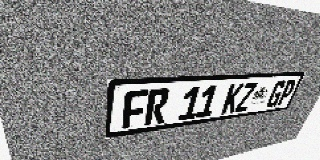1: (178, 86, 203, 121), (195, 85, 220, 118)
F: (122, 90, 148, 129)
G: (265, 80, 287, 108)
K: (221, 83, 245, 114)
P: (276, 80, 297, 106)
R: (144, 88, 170, 126)
Z: (234, 82, 258, 112)
